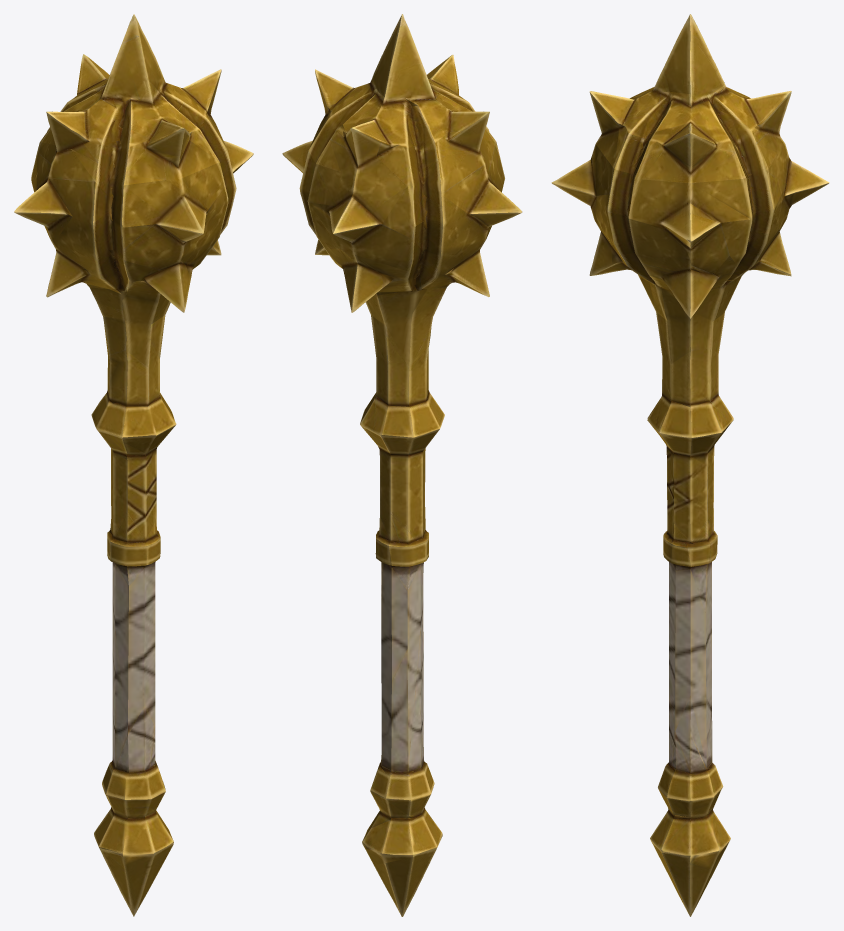
The model's file is sunrise_mace.glb.
The picture shows the model from 3 angles, left to right: view 1: azimuth 30°, elevation 25°; view 2: azimuth 150°, elevation 25°; view 3: azimuth 270°, elevation 25°; orthographic projection.
Size of the model in its own units: 0.4194 by 1.51 by 0.4223.
1 material, 1 textured.
